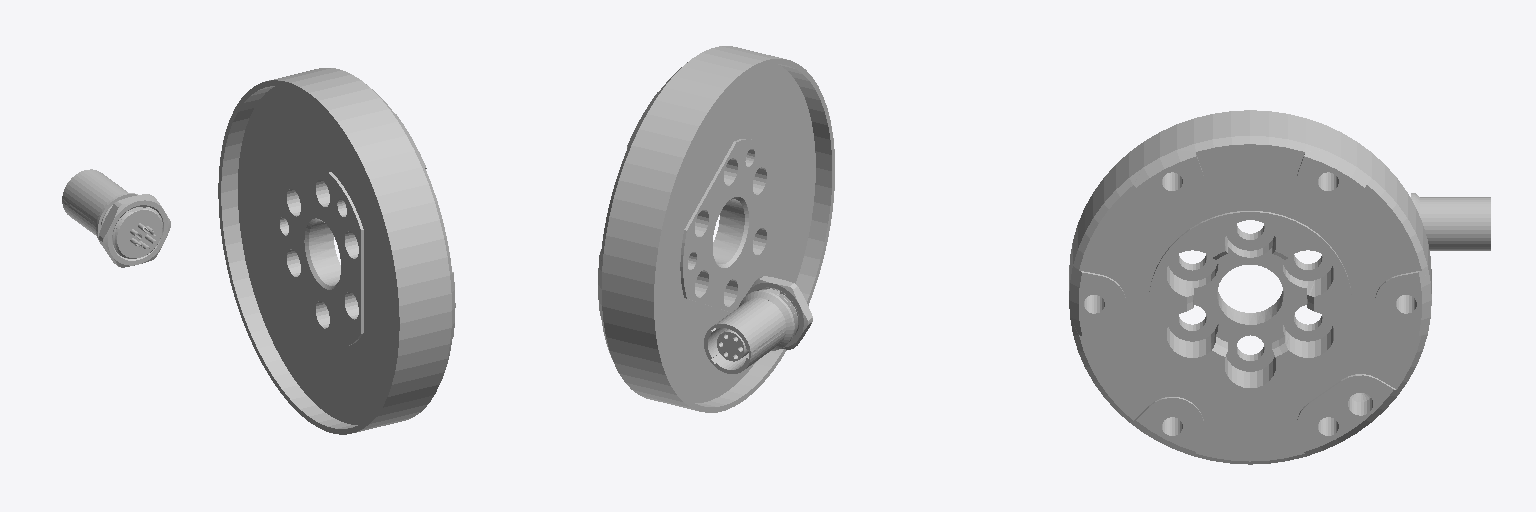
The model's file is arm_l8_1.obj.
3 renders of one model, left to right at view 1: azimuth 30°, elevation 25°; view 2: azimuth 150°, elevation 25°; view 3: azimuth 270°, elevation 25°, orthographic.
Size of the model in its own units: 0.0358 by 0.057 by 0.0663.